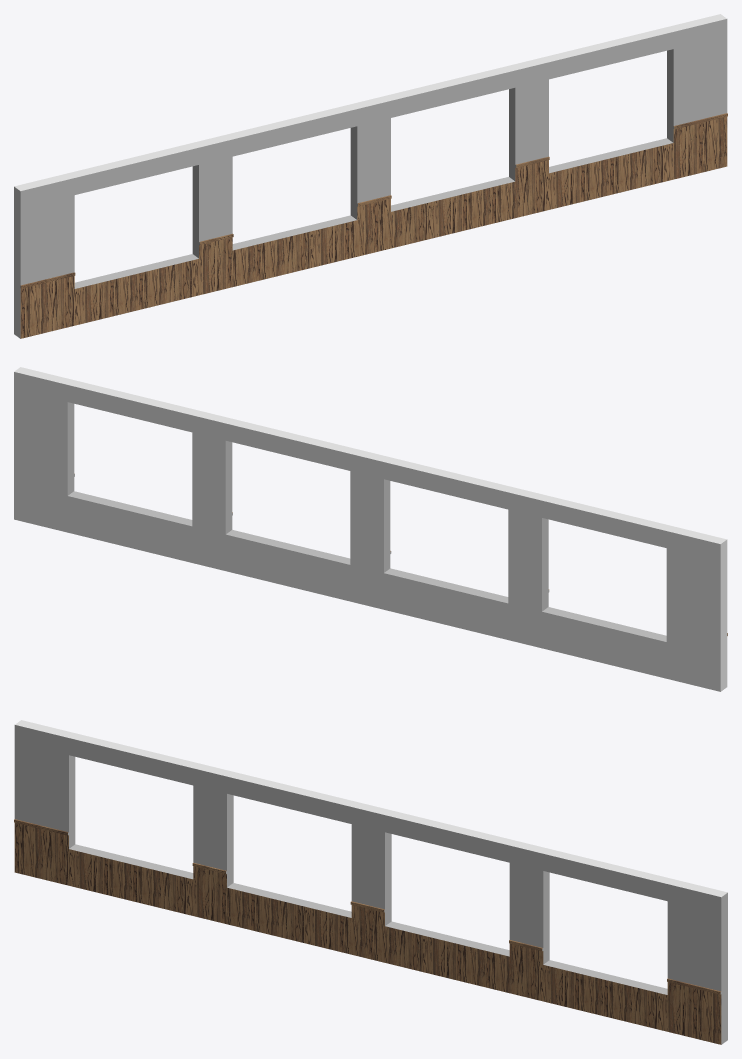
File: Wall 3.FBX
3 views of the same model, one above another, from view 1: azimuth 30°, elevation 25°; view 2: azimuth 150°, elevation 25°; view 3: azimuth 330°, elevation 25° (orthographic).
Parts seen in each view (by area): view 1: Wall 3; view 2: Wall 3; view 3: Wall 3.
Part boxes in pixels (<box>): Wall 3: <box>14,14,727,338</box>; Wall 3: <box>14,367,727,691</box>; Wall 3: <box>14,720,727,1044</box>.
Bounding box in the file's own units: 1363 × 272 × 24.56.
